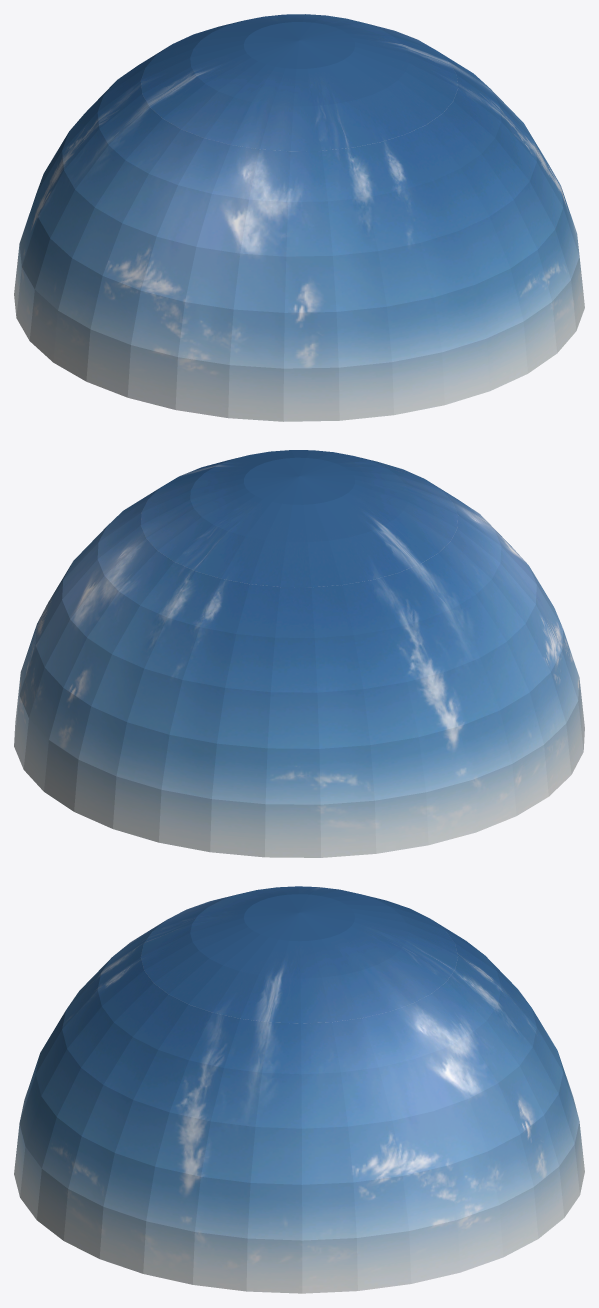
File: hockenheim_sky.glb
3 views of the same model, one above another, from view 1: azimuth 30°, elevation 25°; view 2: azimuth 150°, elevation 25°; view 3: azimuth 270°, elevation 25° (orthographic).
Bounding box in the file's own units: 2200 × 1107 × 2200.
Materials: 2 (2 with a texture image).
